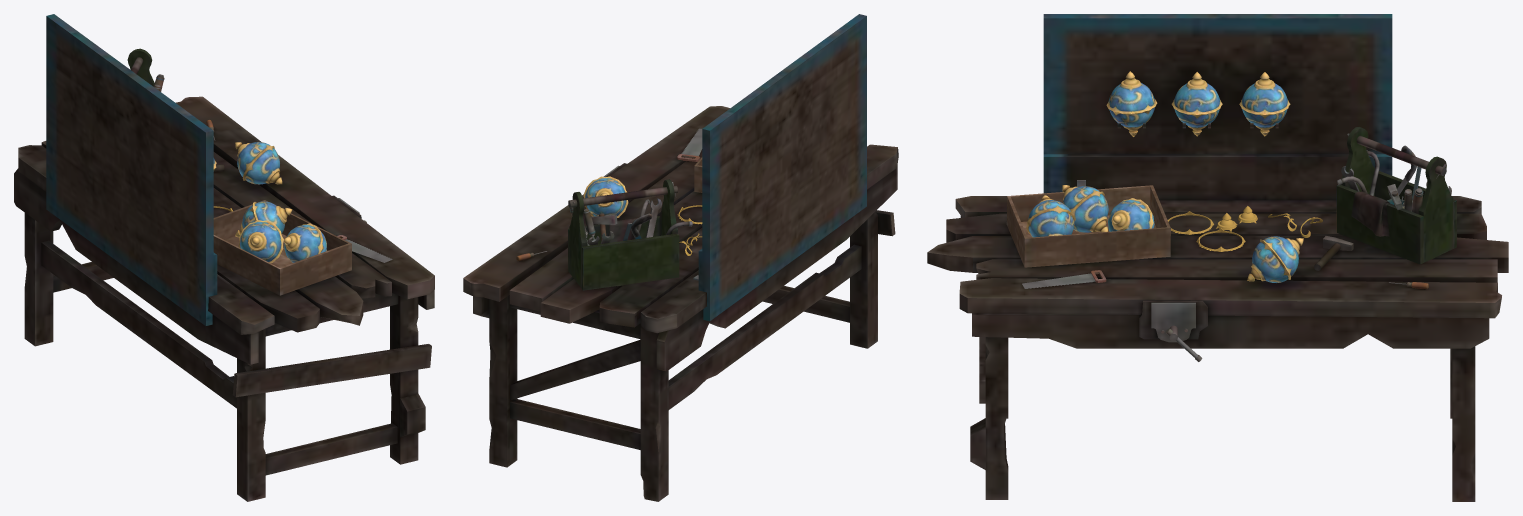
The model's file is SM_PalSphereFactoryMedieval_37073c.glb.
3 views of the same model, side by side, from view 1: azimuth 30°, elevation 25°; view 2: azimuth 150°, elevation 25°; view 3: azimuth 270°, elevation 25° (orthographic). The views are drawn at different scales.
Size of the model in its own units: 1.17 by 1.82 by 2.47.
3 materials, 3 textured.
